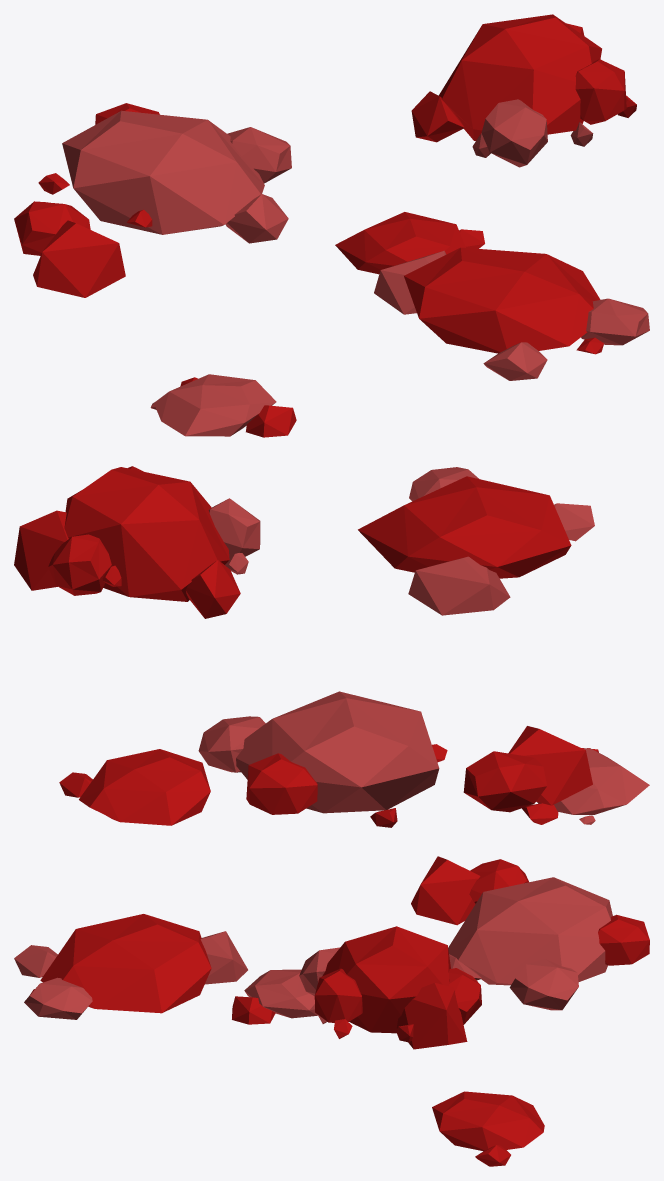
File: Green_planet_cloud_001.FBX
The picture shows the model from 3 angles, top to bottom: view 1: azimuth 30°, elevation 25°; view 2: azimuth 150°, elevation 25°; view 3: azimuth 270°, elevation 25°; orthographic projection. The views are drawn at different scales.
Parts seen in each view (by area): view 1: 004_GREEN PLANET_CLOUD; view 2: 004_GREEN PLANET_CLOUD; view 3: 004_GREEN PLANET_CLOUD.
Boxes of the visible parts, x1,y1,x2,y2 form: 004_GREEN PLANET_CLOUD: [14, 14, 649, 437]; 004_GREEN PLANET_CLOUD: [14, 466, 649, 827]; 004_GREEN PLANET_CLOUD: [14, 856, 649, 1166].
Bounding box in the file's own units: 13.41 × 6.18 × 15.35.
